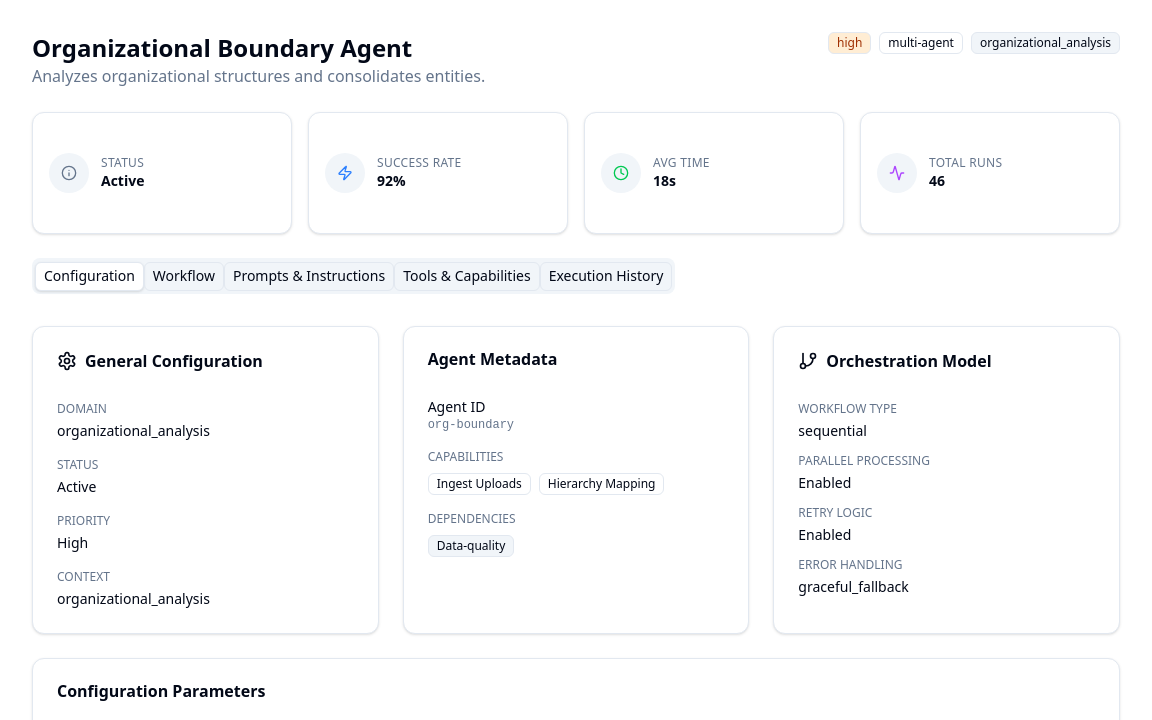
Test case: AgentConfigInspector › renders agent metadata, workflow, prompts, and execution history
Check: the heading "Organizational Boundary Agent" is shown, box x1=32 y1=31 x2=412 y2=64
Check: the text "high" is shown, box x1=828 y1=32 x2=871 y2=54
What coordinates should you click on to do the following:
click the tab "Workflow"
I would click on:
 (184, 276)
Its box is x1=144 y1=262 x2=224 y2=290.
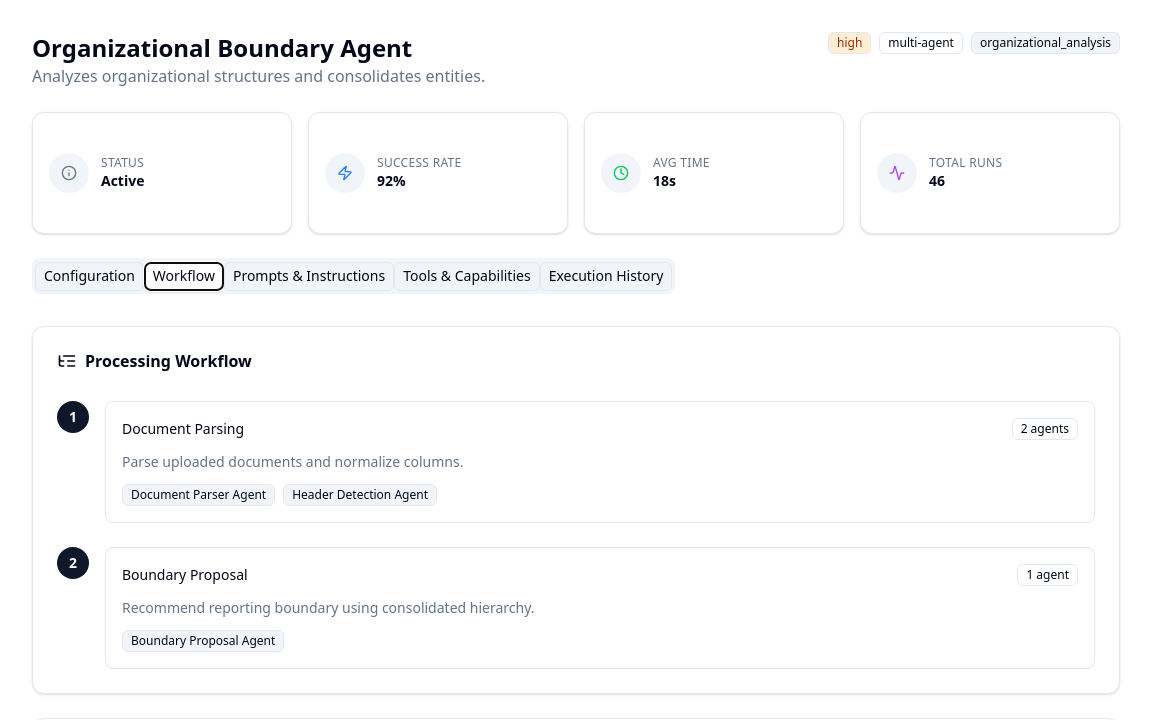
Check: the heading "Document Parsing" is shown, box x1=122 y1=419 x2=244 y2=439
Check: the heading "Boundary Proposal" is shown, box x1=122 y1=565 x2=248 y2=585
Check: the text "Document Parser Agent" is shown, box x1=122 y1=484 x2=275 y2=506
What coordinates should you click on to do the following:
click the tab "Prompts & Instructions"
I would click on:
 (309, 276)
Its box is x1=224 y1=262 x2=394 y2=290.
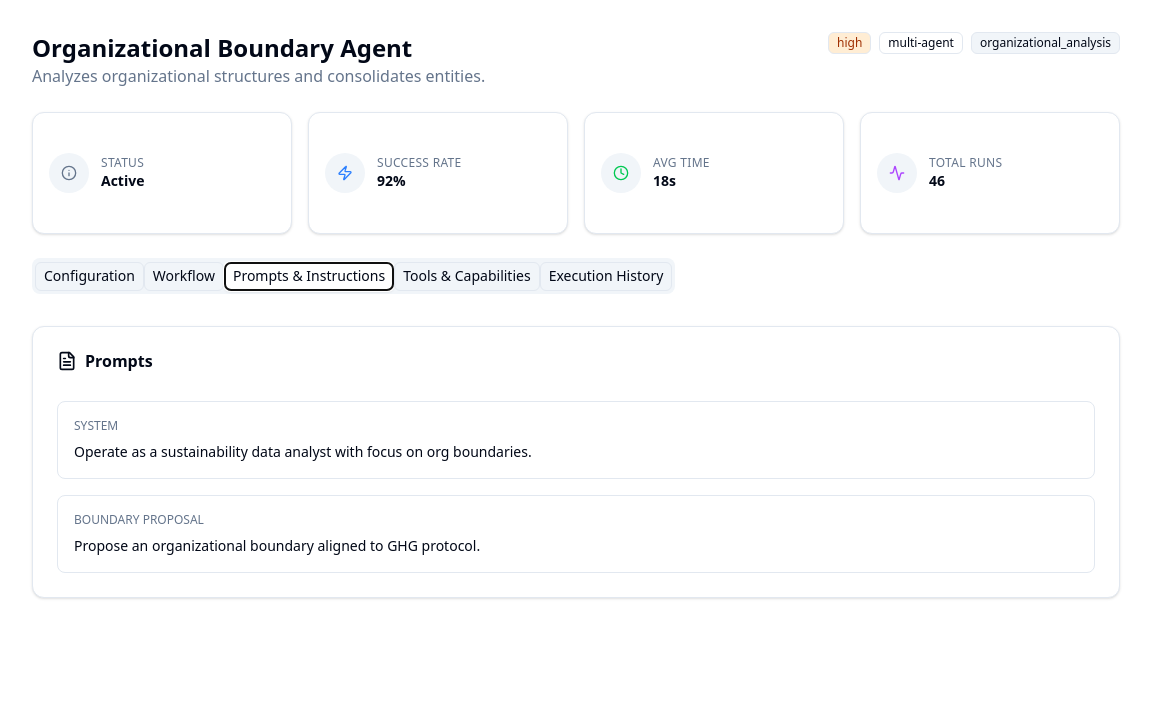
Check: the text "System" is shown, box x1=74 y1=417 x2=118 y2=434
Check: the text "Operate as a sustainability data analyst with focus on org boundaries." is shown, box x1=74 y1=442 x2=532 y2=461
What coordinates should you click on to do the following:
click the tab "Tools & Capabilities"
I would click on:
 (467, 276)
Its box is x1=394 y1=262 x2=540 y2=290.
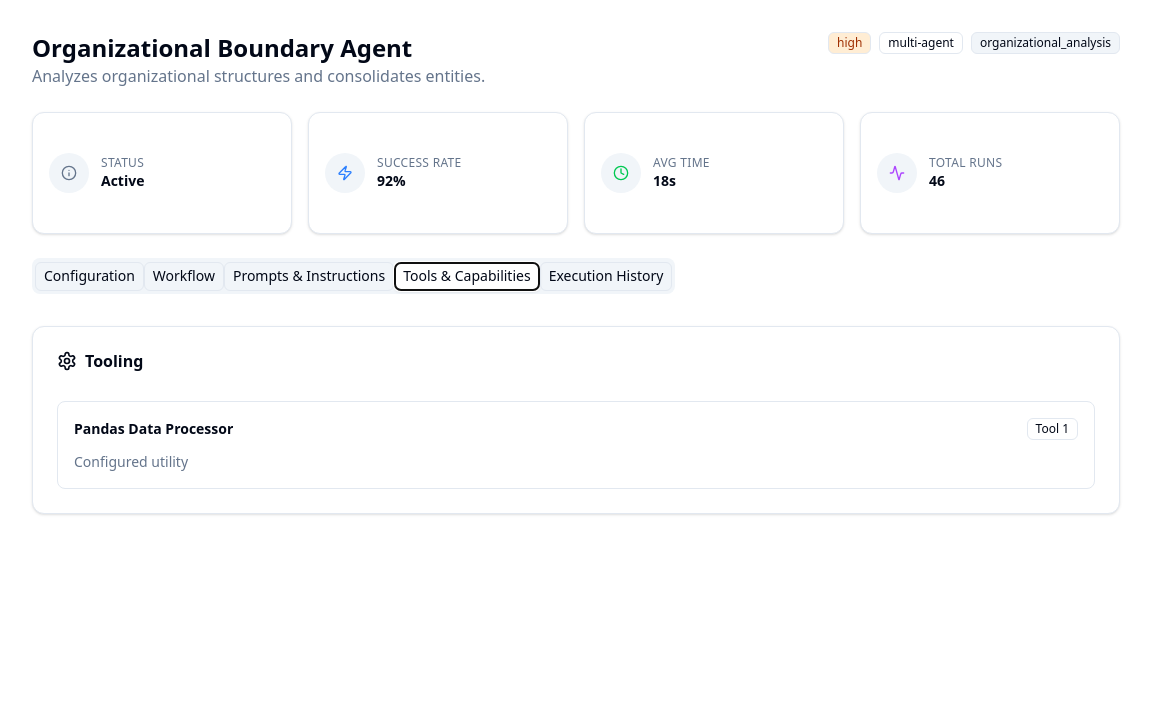
Check: the heading "Pandas Data Processor" is shown, box x1=74 y1=419 x2=233 y2=439
What coordinates should you click on to do the following:
click the tab "Execution History"
I would click on:
 (606, 276)
Its box is x1=540 y1=262 x2=672 y2=290.
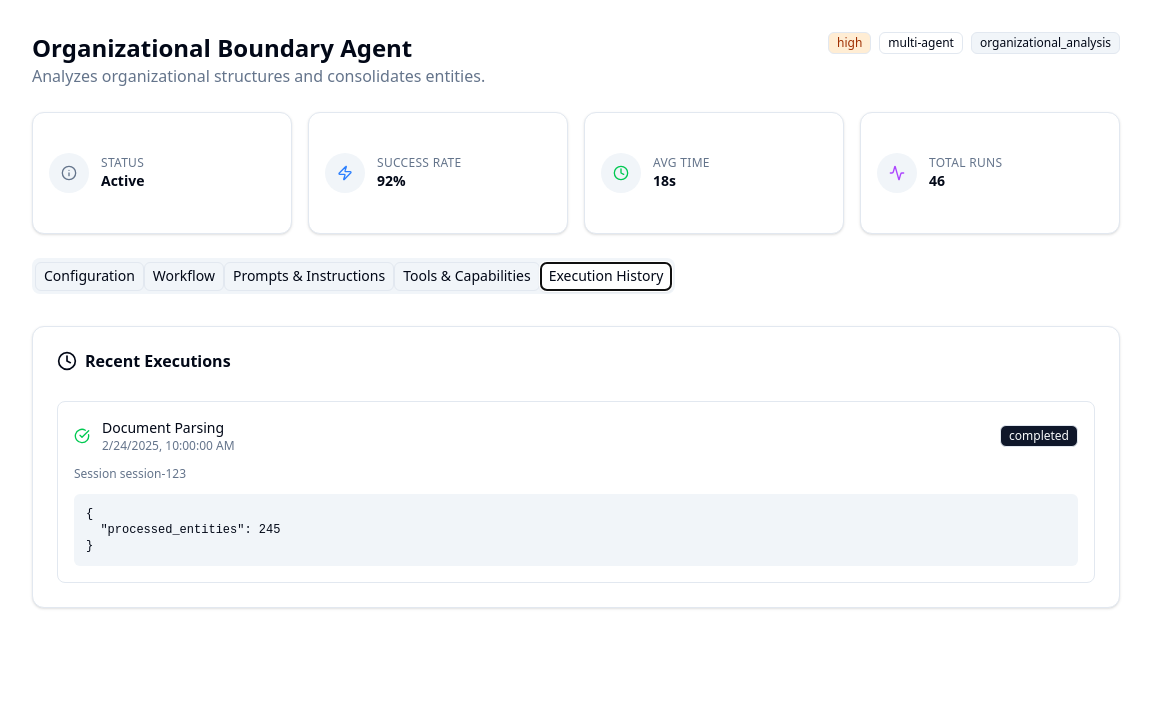
Check: the text "Session session-123" is shown, box x1=74 y1=465 x2=186 y2=482
Check: the text "{ \"processed_entities\": 245 }" is shown, box x1=74 y1=494 x2=1078 y2=566
